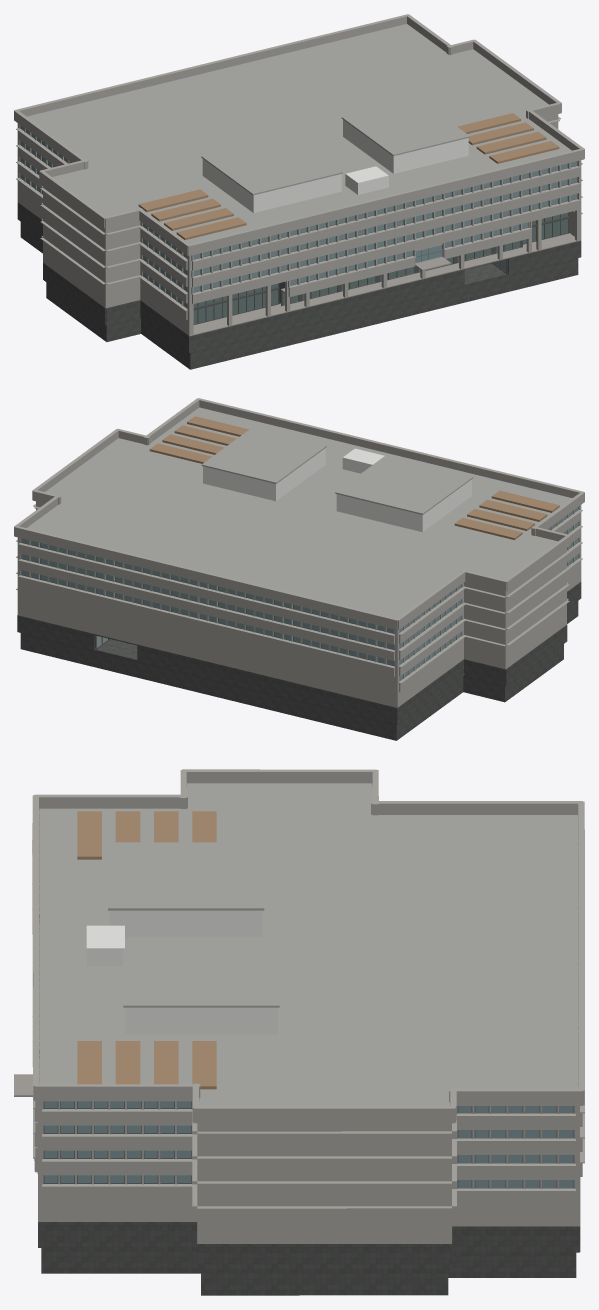
3 views of the same model, one above another, from view 1: azimuth 30°, elevation 25°; view 2: azimuth 150°, elevation 25°; view 3: azimuth 270°, elevation 25° (orthographic). The views are drawn at different scales.
Visible parts, largest first — view 1: library__roof, library__concrete, library__pier, library__glass, library__pavilion, library__deck, library__frame, library__paving, library__lobbyglass; view 2: library__roof, library__concrete, library__pier, library__glass, library__pavilion, library__deck, library__frame; view 3: library__roof, library__concrete, library__pier, library__pavilion, library__deck, library__glass, library__frame.
Boxes of the visible parts, x1=… form: library__roof: x1=27, y1=24, x2=571, y2=243; library__concrete: x1=14, y1=14, x2=584, y2=335; library__pier: x1=17, y1=202, x2=581, y2=369; library__glass: x1=20, y1=125, x2=577, y2=307; library__pavilion: x1=202, y1=119, x2=468, y2=212; library__deck: x1=138, y1=113, x2=559, y2=239; library__frame: x1=20, y1=125, x2=577, y2=324; library__paving: x1=189, y1=233, x2=580, y2=336; library__lobbyglass: x1=193, y1=212, x2=568, y2=324; library__roof: x1=27, y1=407, x2=572, y2=618; library__concrete: x1=14, y1=398, x2=584, y2=707; library__pier: x1=17, y1=582, x2=581, y2=740; library__glass: x1=21, y1=507, x2=578, y2=680; library__pavilion: x1=203, y1=448, x2=471, y2=531; library__deck: x1=149, y1=416, x2=559, y2=539; library__frame: x1=21, y1=506, x2=578, y2=681; library__roof: x1=39, y1=783, x2=577, y2=1106; library__concrete: x1=32, y1=769, x2=584, y2=1244; library__pier: x1=37, y1=1172, x2=580, y2=1295; library__pavilion: x1=86, y1=910, x2=277, y2=1034; library__deck: x1=77, y1=811, x2=216, y2=1089; library__glass: x1=44, y1=1101, x2=573, y2=1187; library__frame: x1=43, y1=1101, x2=574, y2=1188.
Bounding box in the file's own units: 105 × 30.05 × 74.58.
Materials: 12 (1 with a texture image).
